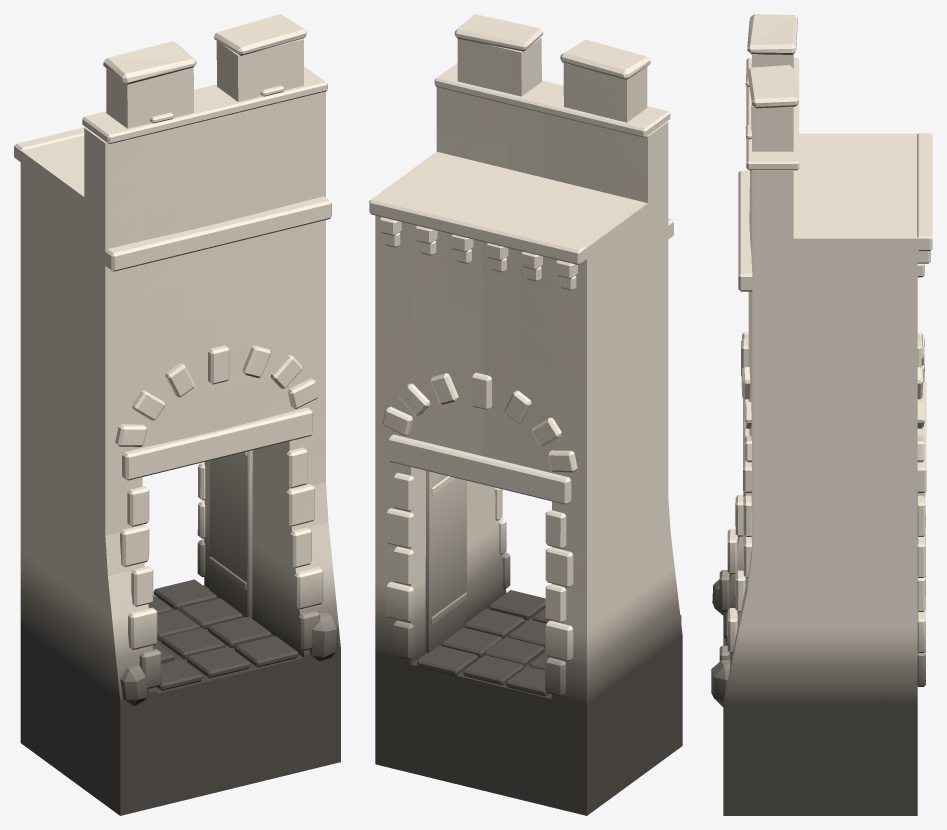
Rendered from SM_VK_TownWall_Postern.fbx.
3 views of the same model, side by side, from view 1: azimuth 30°, elevation 25°; view 2: azimuth 150°, elevation 25°; view 3: azimuth 270°, elevation 25° (orthographic). The views are drawn at different scales.
Parts seen in each view (by area): view 1: SM_VK_TownWall_Postern.001; view 2: SM_VK_TownWall_Postern.001; view 3: SM_VK_TownWall_Postern.001.
Boxes of the visible parts, box(x1,y1,x2,y2) form: SM_VK_TownWall_Postern.001: box(14, 14, 340, 815); SM_VK_TownWall_Postern.001: box(369, 14, 682, 815); SM_VK_TownWall_Postern.001: box(711, 14, 932, 815).
Size of the model in its own units: 3 by 9.45 by 2.67.
